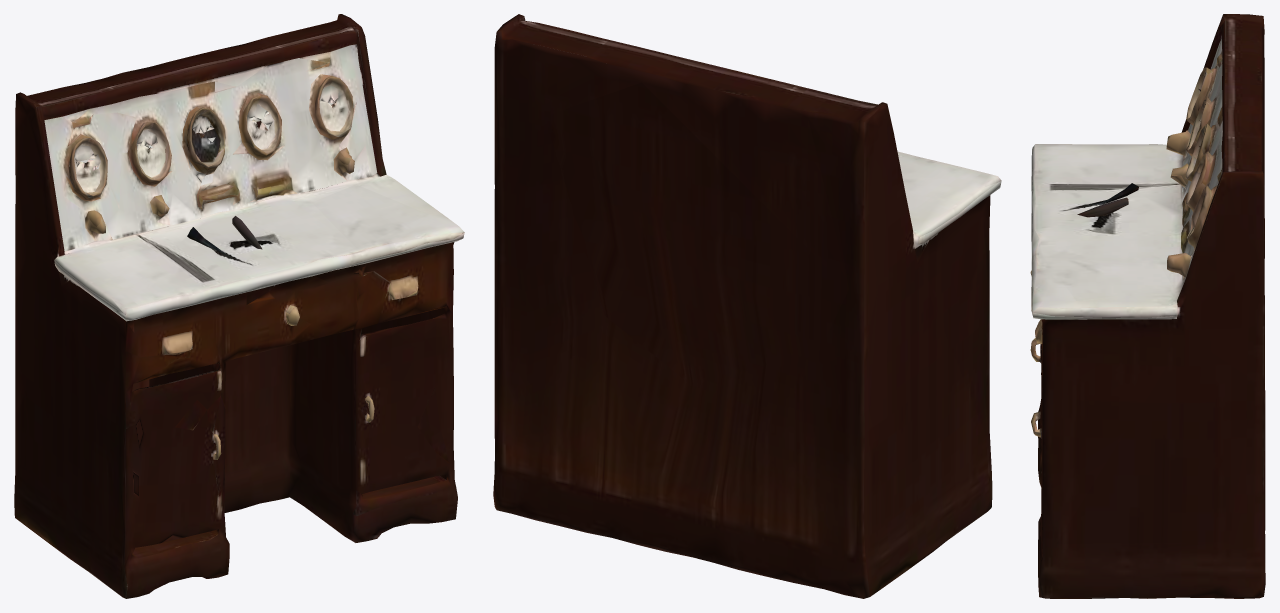
Rendered from mandos_rx.glb.
The picture shows the model from 3 angles, left to right: view 1: azimuth 30°, elevation 25°; view 2: azimuth 150°, elevation 25°; view 3: azimuth 270°, elevation 25°; orthographic projection. The views are drawn at different scales.
Parts seen in each view (by area): view 1: geometry_0; view 2: geometry_0; view 3: geometry_0.
Boxes of the visible parts, <box> form: geometry_0: <box>14,14,464,598</box>; geometry_0: <box>493,14,1001,598</box>; geometry_0: <box>1030,14,1265,598</box>.
Bounding box in the file's own units: 1 × 1.2 × 0.6.
1 material, 1 textured.
